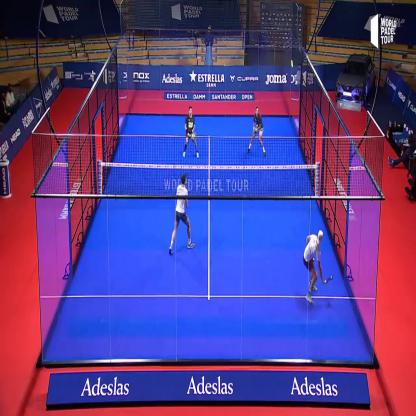ball: (289, 56, 296, 72)
